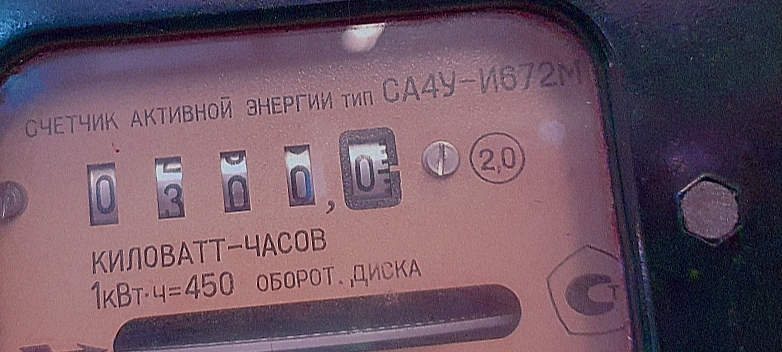0: (284, 159, 314, 205), (88, 168, 116, 216), (347, 149, 376, 194), (221, 169, 249, 212)
3: (157, 177, 184, 218)
screen: (59, 104, 422, 256)
